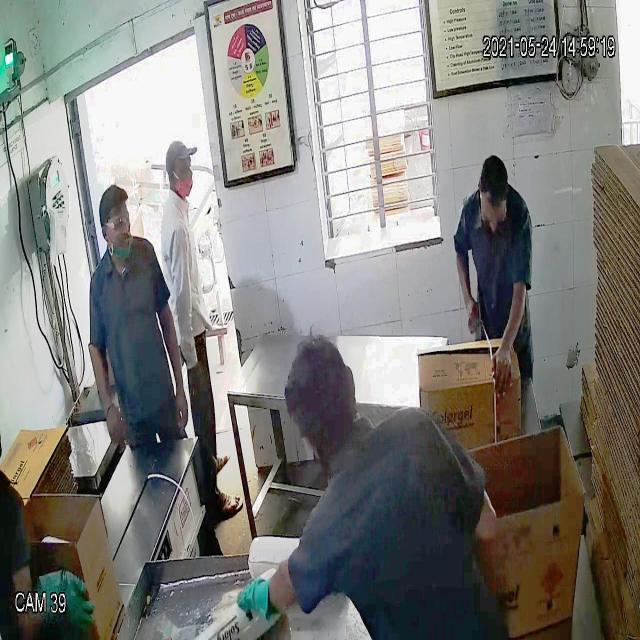glasses: (96, 207, 134, 233)
